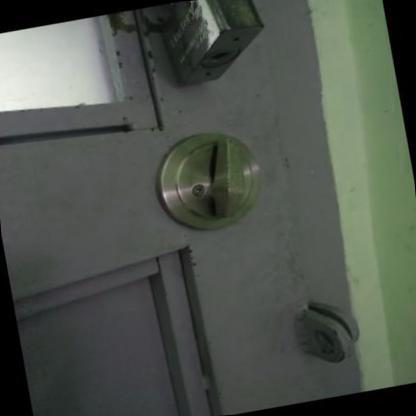unlock: (140, 100, 368, 268)
